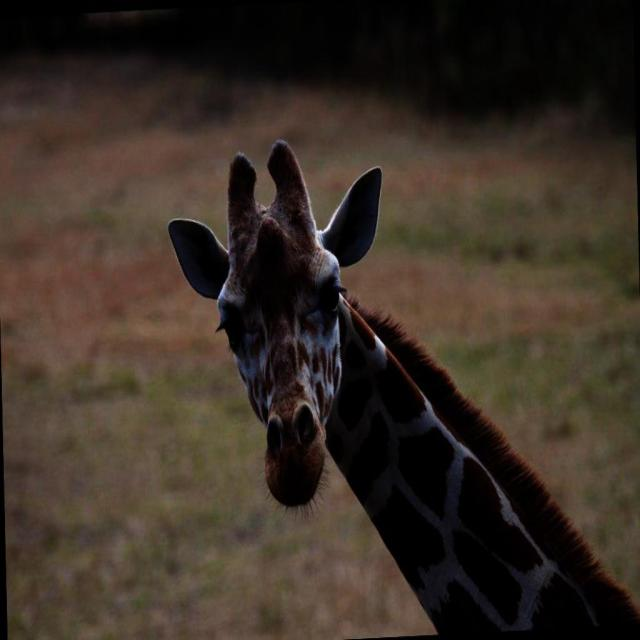Giraffe: (163, 128, 629, 629)
